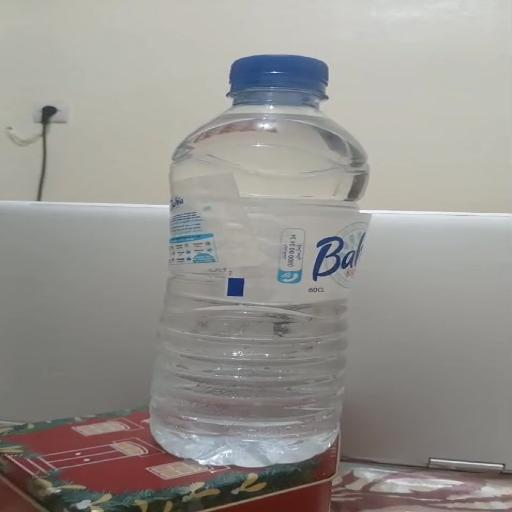bouteille conformite: (154, 50, 380, 462)
